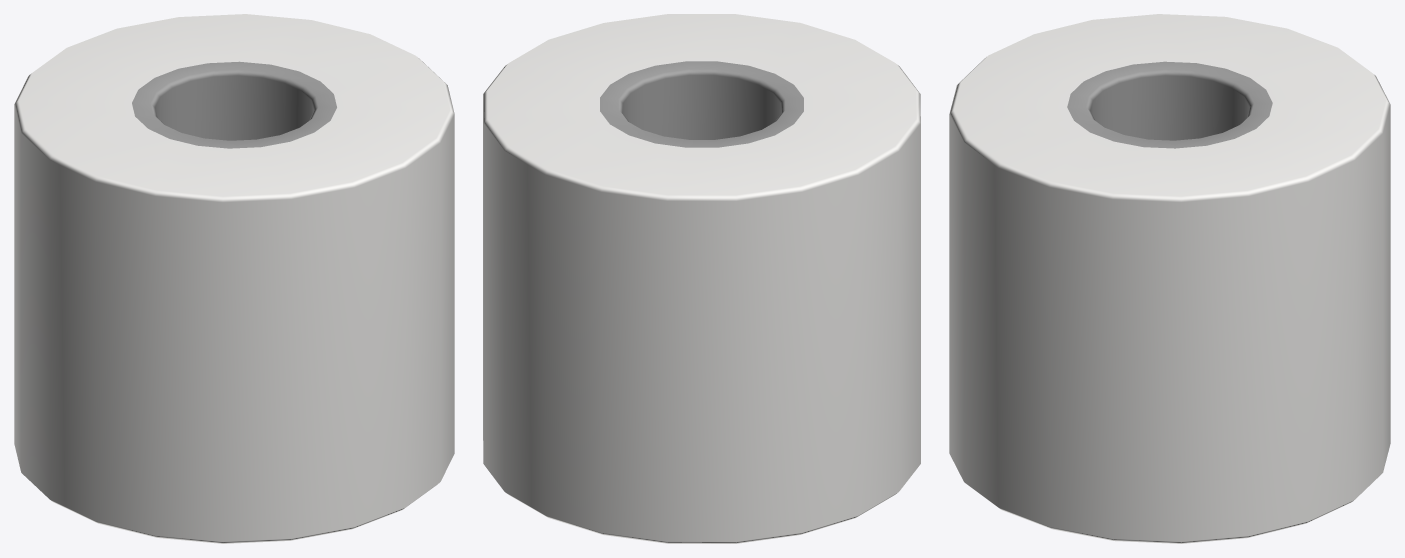
Rendered from Toilet_Paper_2.glb.
The picture shows the model from 3 angles, left to right: view 1: azimuth 30°, elevation 25°; view 2: azimuth 150°, elevation 25°; view 3: azimuth 270°, elevation 25°; orthographic projection.
Visible parts, largest first — view 1: Toilet_Paper_2; view 2: Toilet_Paper_2; view 3: Toilet_Paper_2.
Boxes of the visible parts, left/top/right/bottom form: Toilet_Paper_2: left=14, top=14, right=454, bottom=543; Toilet_Paper_2: left=483, top=14, right=920, bottom=543; Toilet_Paper_2: left=949, top=14, right=1390, bottom=543.
Bounding box in the file's own units: 0.1565 × 0.1363 × 0.1567.
Materials: 1 (1 with a texture image).
